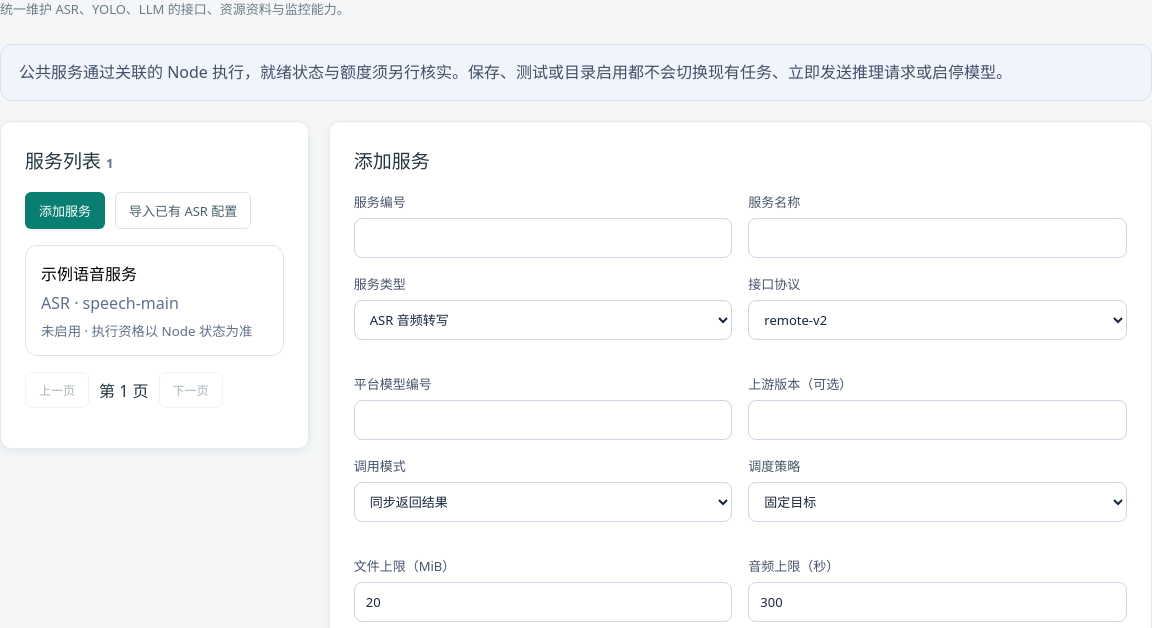
Test: public service catalog module › uses immutable saved revisions for explicit connection tests
Step 1. Click the button "示例语音服务 ASR · speech-main 未启用 · 执行资格以 Node 状态为准" → (154, 301), box top-left (25, 245), bottom-right (284, 356)
(page scrolled)
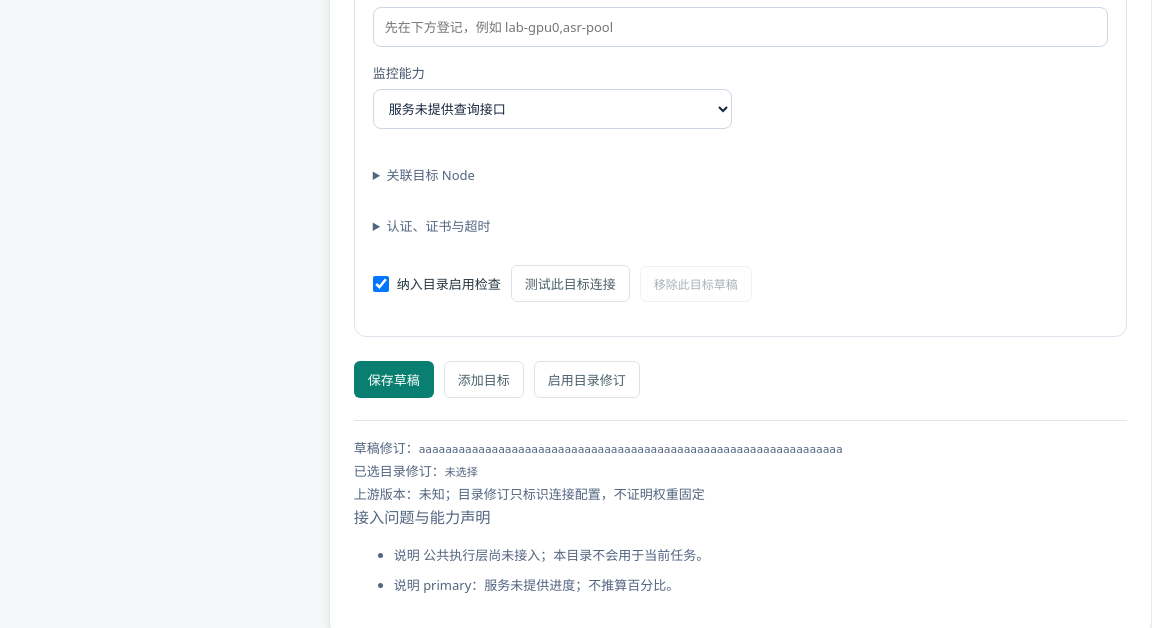
Step 2. Click the button "测试此目标连接" → (570, 284), box top-left (511, 265), bottom-right (630, 302)
(page scrolled)
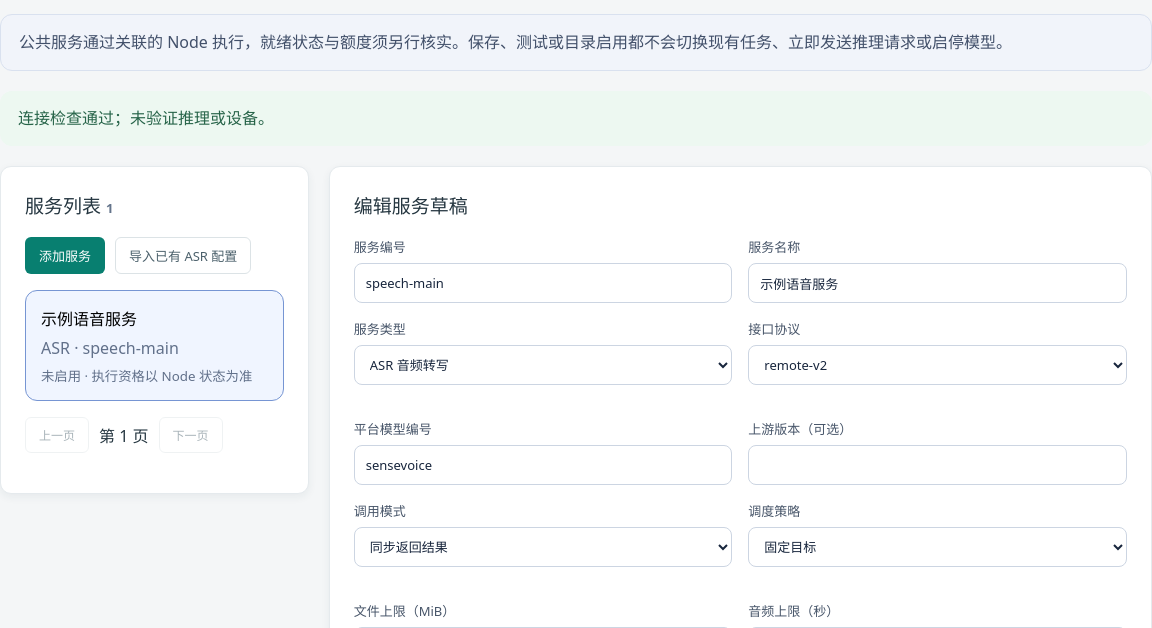
Expected: the text "连接检查通过；未验证推理或设备。" is shown, top-left (0, 91), bottom-right (1151, 146)
Step 3. Replace the text in the field labelled "服务名称" with "未保存修改" → (938, 283), box top-left (748, 263), bottom-right (1127, 303)
(page scrolled)
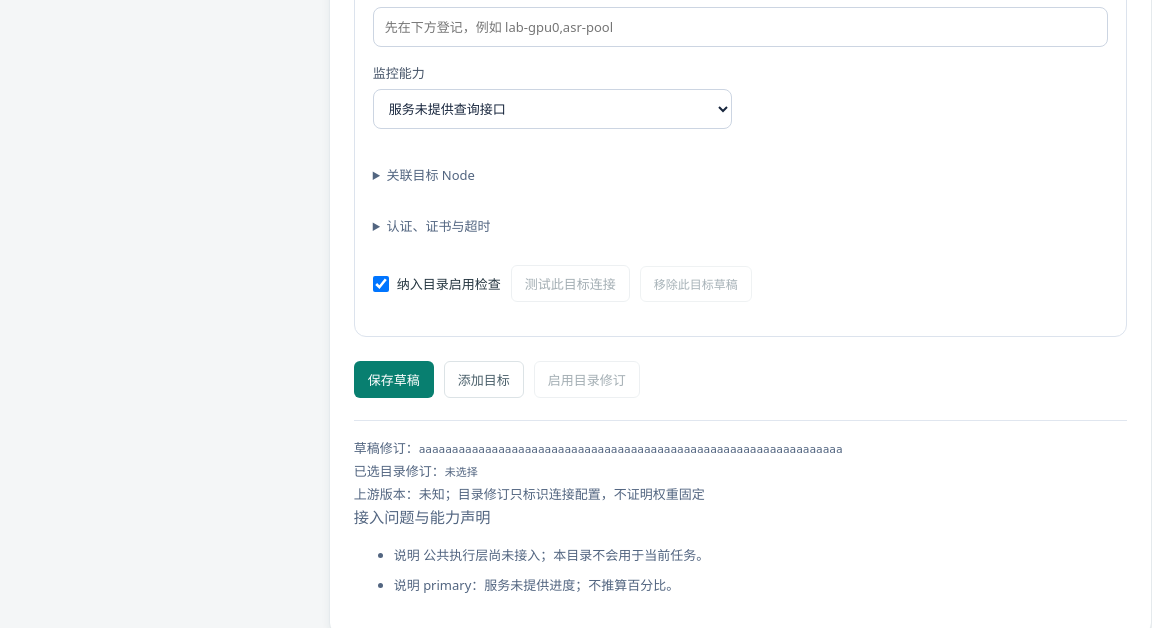
Expected: the button "测试此目标连接" is disabled, top-left (511, 265), bottom-right (630, 302)
